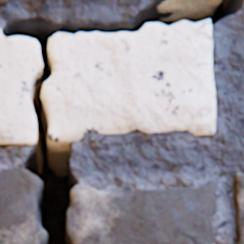brick: (234, 174, 243, 243), (0, 0, 7, 7)
broken_brick: (41, 21, 214, 144), (66, 181, 215, 243), (0, 30, 42, 146), (0, 169, 46, 243)
crack: (1, 0, 242, 243)
